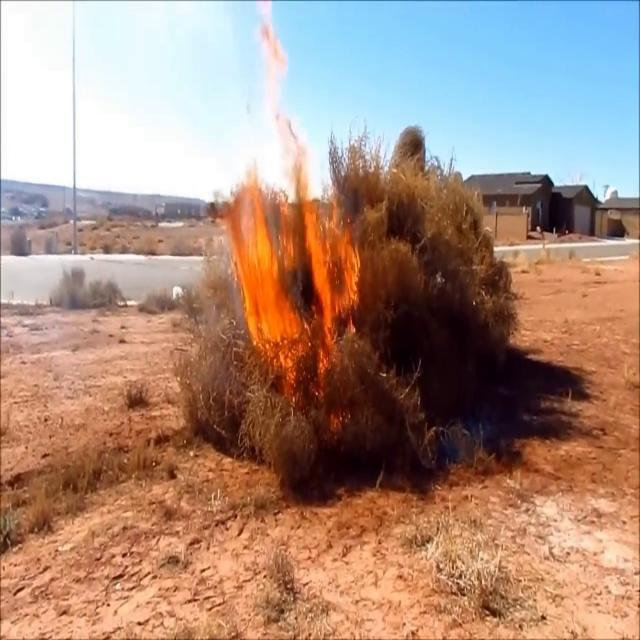Fire: (223, 24, 365, 390)
